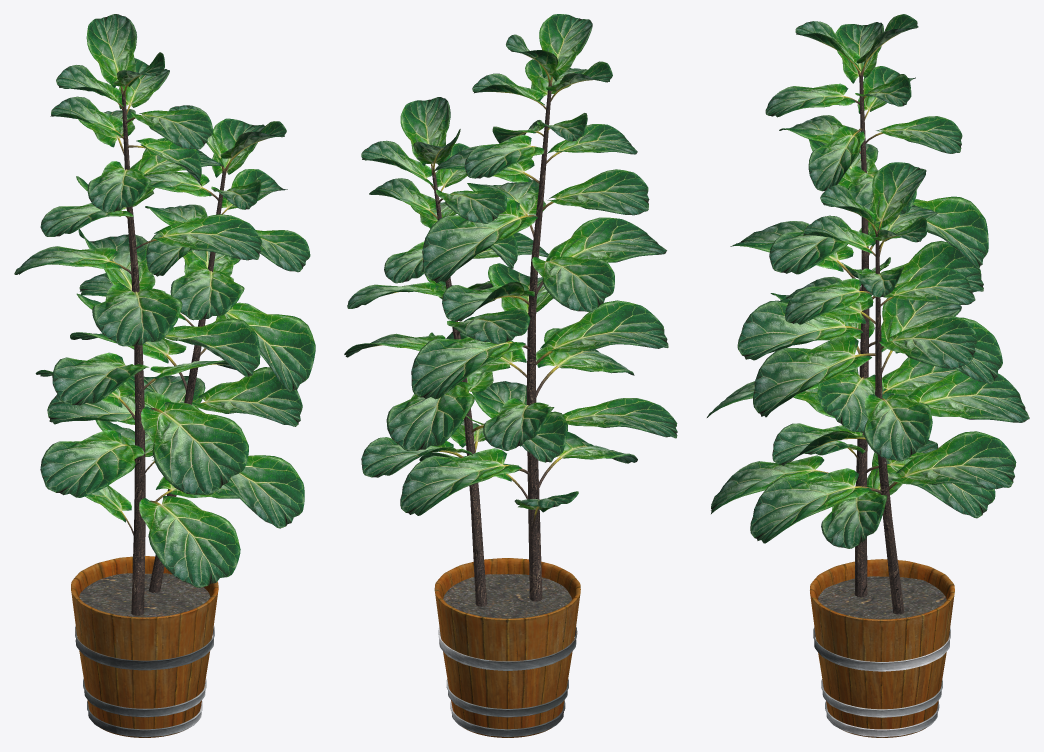
Rendered from Plant N231219.obj.
3 views of the same model, side by side, from view 1: azimuth 30°, elevation 25°; view 2: azimuth 150°, elevation 25°; view 3: azimuth 270°, elevation 25° (orthographic).
Parts seen in each view (by area): view 1: arch75_012_001, arch75_012_002, arch75_012_003; view 2: arch75_012_001, arch75_012_002, arch75_012_003; view 3: arch75_012_001, arch75_012_002, arch75_012_003.
Boxes of the visible parts, box(x1,y1,x2,y2) form: arch75_012_001: box(14, 14, 315, 587); arch75_012_002: box(71, 74, 265, 737); arch75_012_003: box(75, 625, 214, 737); arch75_012_001: box(344, 14, 677, 515); arch75_012_002: box(374, 56, 592, 737); arch75_012_003: box(438, 627, 577, 736); arch75_012_001: box(707, 14, 1029, 548); arch75_012_002: box(810, 34, 954, 737); arch75_012_003: box(813, 627, 950, 737).
Bounding box in the file's own units: 41.67 × 97.08 × 41.63.
Materials: 1 (1 with a texture image).
